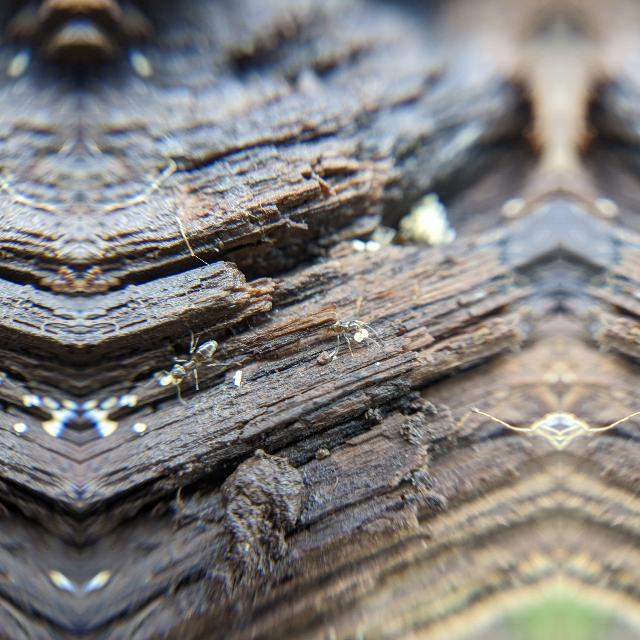Tapinoma: (160, 326, 222, 398), (318, 311, 370, 339)
